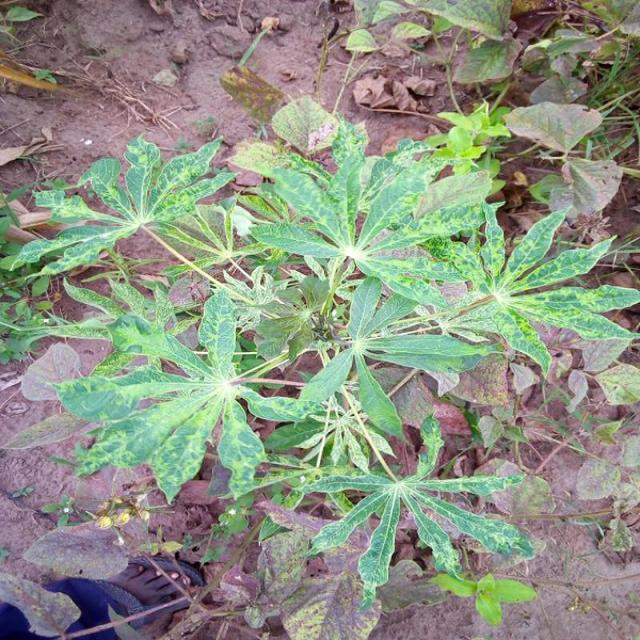cassava leaf: (9, 89, 637, 609)
